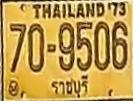0: (93, 20, 109, 70), (28, 23, 44, 72)
5: (76, 21, 92, 70)
6: (112, 20, 128, 68)
7: (9, 22, 27, 74)
9: (58, 22, 75, 70)
RBR: (50, 75, 92, 99)
